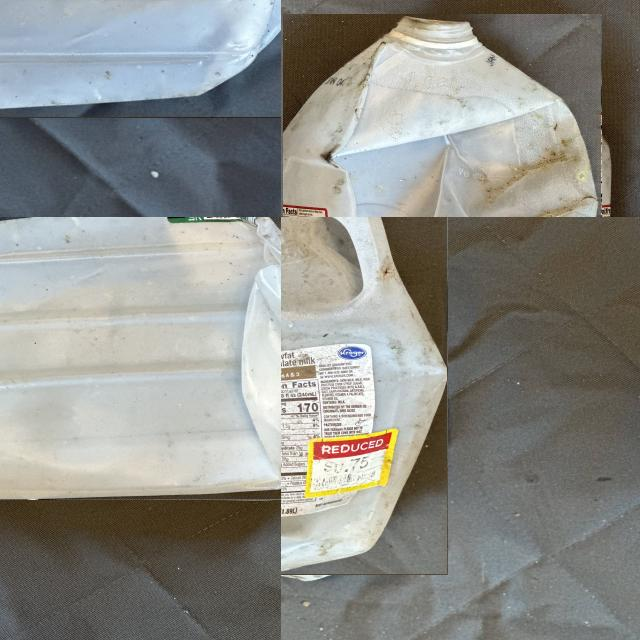milk-jug: (0, 217, 281, 500), (282, 14, 601, 217), (281, 217, 447, 575), (0, 0, 281, 118)
